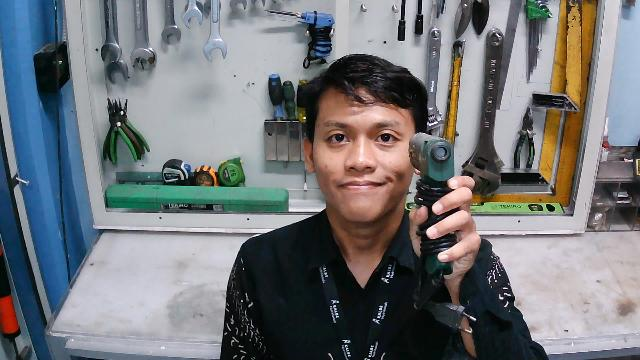gun_lem: (409, 129, 474, 337)
